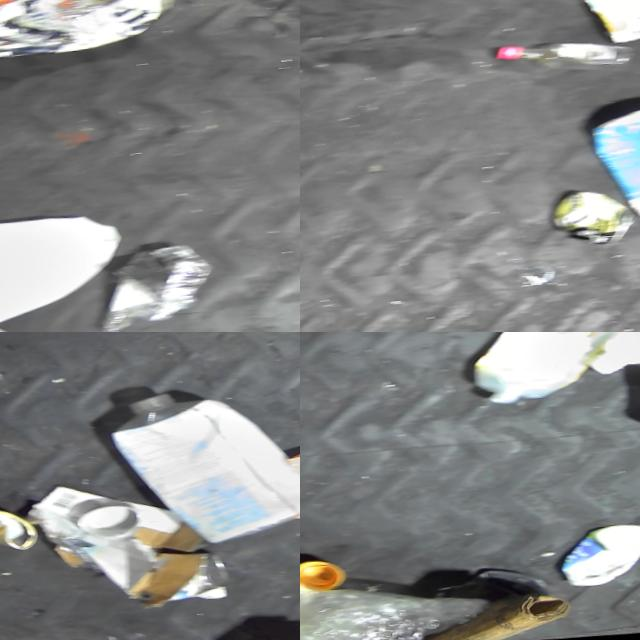can: (553, 184, 640, 246), (578, 0, 640, 44)
milk_jug: (94, 371, 300, 555), (0, 209, 133, 332), (470, 332, 638, 406)
non_white_jug: (584, 90, 640, 221)
plastic_bottle: (495, 33, 638, 78)
